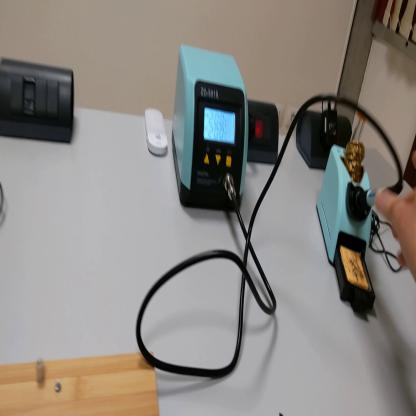hand: (375, 150, 416, 281)
socket: (297, 105, 355, 173), (247, 97, 278, 165)
welder base: (318, 115, 377, 320)
welder probe tip: (354, 179, 407, 211)
welder station: (171, 45, 249, 215)
working area: (1, 348, 160, 414)
